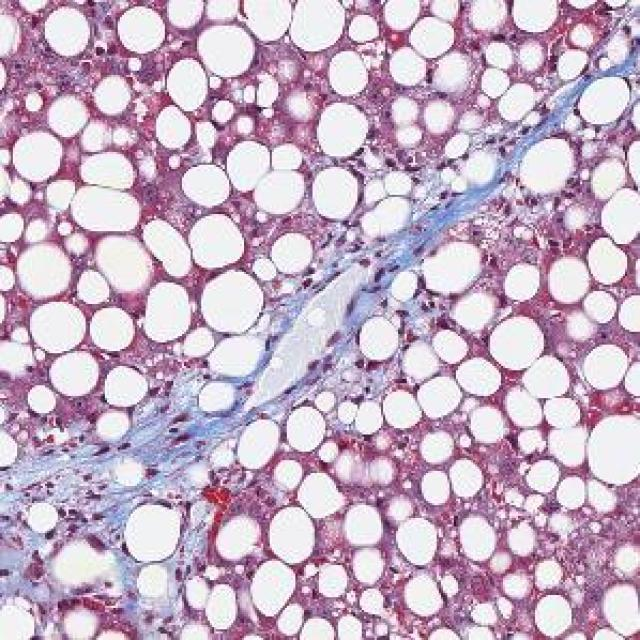fibrosis: (34, 404, 236, 561), (255, 244, 432, 405)
